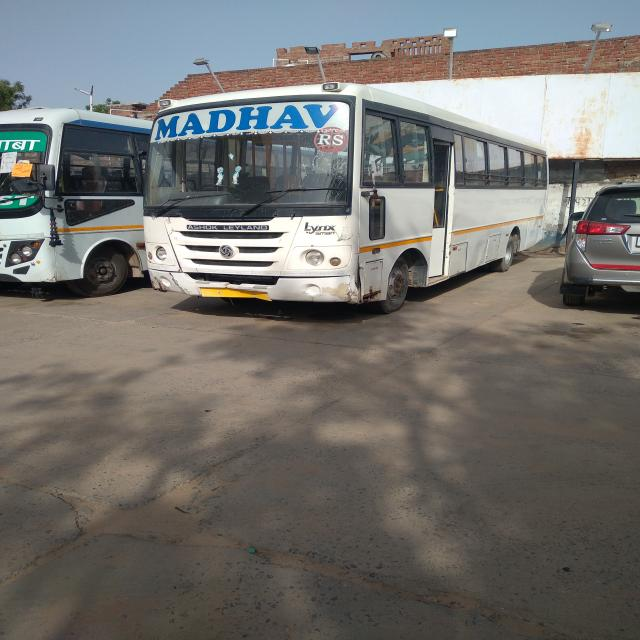Bus: (151, 105, 554, 299), (1, 106, 142, 299)
cars: (561, 185, 640, 308)
